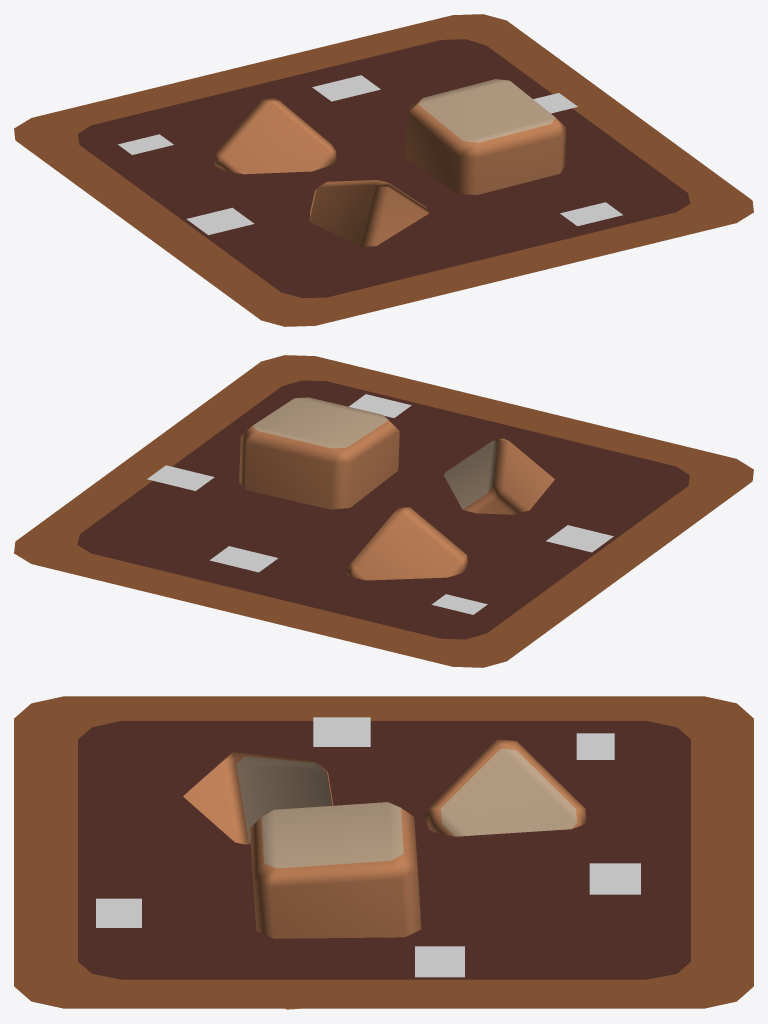
The model's file is BC_cookrecipe_S_14.fbx.
3 views of the same model, one above another, from view 1: azimuth 30°, elevation 25°; view 2: azimuth 150°, elevation 25°; view 3: azimuth 270°, elevation 25° (orthographic). The views are drawn at different scales.
Parts seen in each view (by area): view 1: polySurface1, cube1, cube3, cube2, boko3, boko5, boko2, boko4, boko1; view 2: polySurface1, cube1, cube3, cube2, boko3, boko5, boko1, boko2, boko4; view 3: polySurface1, cube1, cube3, cube2, boko3, boko5, boko1, boko2, boko4.
Part boxes in pixels (x1,y1,x2,y2): polySurface1: (14,14,753,326); cube1: (405,79,566,195); cube3: (213,98,336,174); cube2: (309,180,428,246); boko3: (186,207,254,234); boko5: (312,75,380,101); boko2: (560,202,622,226); boko4: (118,134,173,154); boko1: (533,93,577,113); polySurface1: (14,355,753,667); cube1: (239,397,399,509); cube3: (345,507,468,580); cube2: (444,438,554,514); boko3: (546,525,613,552); boko5: (209,546,278,572); boko1: (147,465,214,490); boko2: (349,394,411,417); boko4: (431,594,487,614); polySurface1: (14,696,753,1008); cube1: (250,802,421,1009); cube3: (424,739,586,836); cube2: (183,752,332,844); boko3: (313,717,370,746); boko5: (589,863,640,894); boko1: (415,946,464,977); boko2: (96,898,141,927); boko4: (576,733,614,759).
Bounding box in the file's own units: 3.5 × 0.9134 × 3.5.
